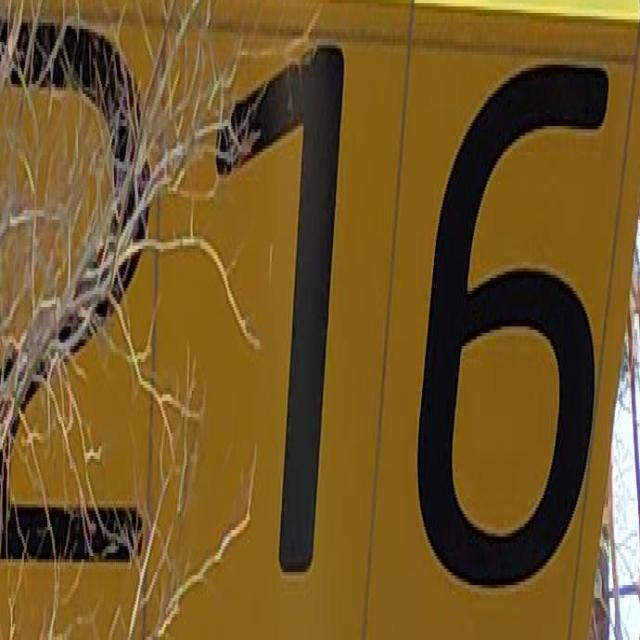character: (414, 42, 613, 600), (0, 5, 154, 593), (212, 26, 350, 584)
